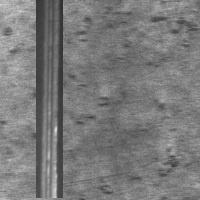rolled-in_scale: (23, 85, 181, 190), (45, 13, 200, 46), (1, 118, 76, 160)
scratches: (36, 0, 63, 198)
